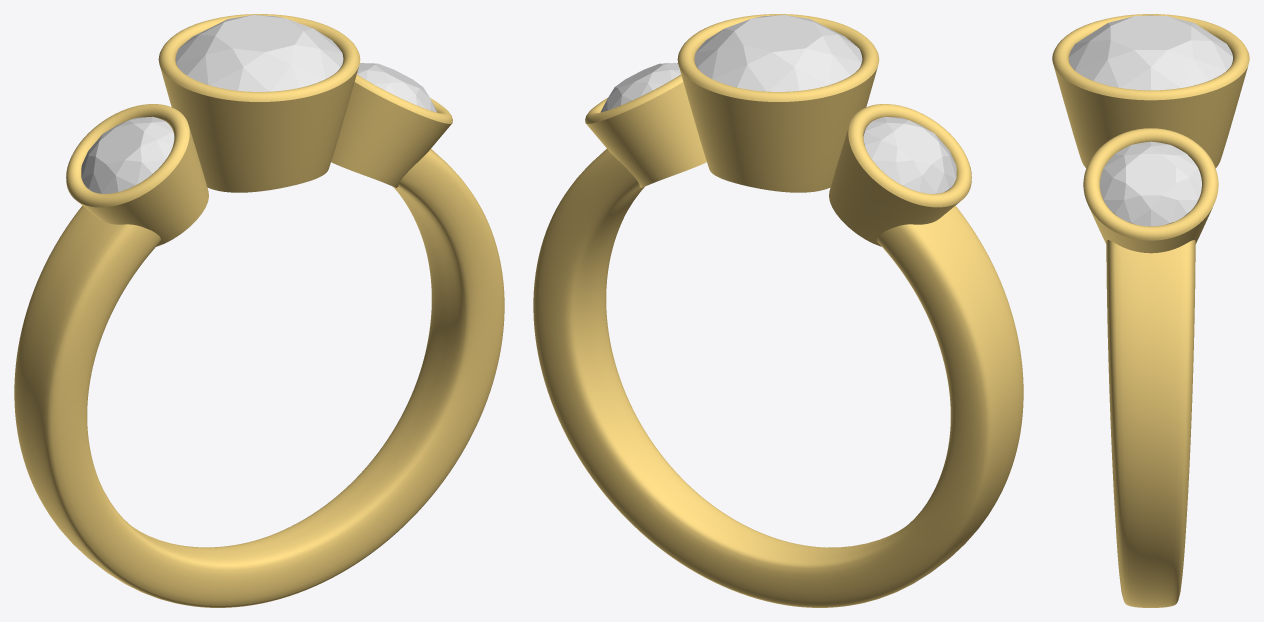
File: diamond-round-yellowgold-bezelset-straighttaperedband-2stone.glb
3 renders of one model, left to right at view 1: azimuth 30°, elevation 25°; view 2: azimuth 150°, elevation 25°; view 3: azimuth 270°, elevation 25°, orthographic. The views are drawn at different scales.
Visible parts, largest first — view 1: metal, stone, side, side.001; view 2: metal, stone, side, side.001; view 3: metal, stone, side.001.
Part boxes in pixels (x1,y1,x2,y2): metal: [14, 14, 504, 607]; stone: [175, 15, 343, 91]; side: [81, 116, 174, 193]; side.001: [357, 63, 437, 112]; metal: [533, 14, 1023, 607]; stone: [694, 15, 862, 91]; side: [863, 116, 956, 193]; side.001: [600, 63, 680, 112]; metal: [1052, 14, 1249, 607]; stone: [1069, 15, 1232, 90]; side.001: [1100, 141, 1201, 226].
Size of the model in its own units: 20.51 by 23.81 by 7.74.
